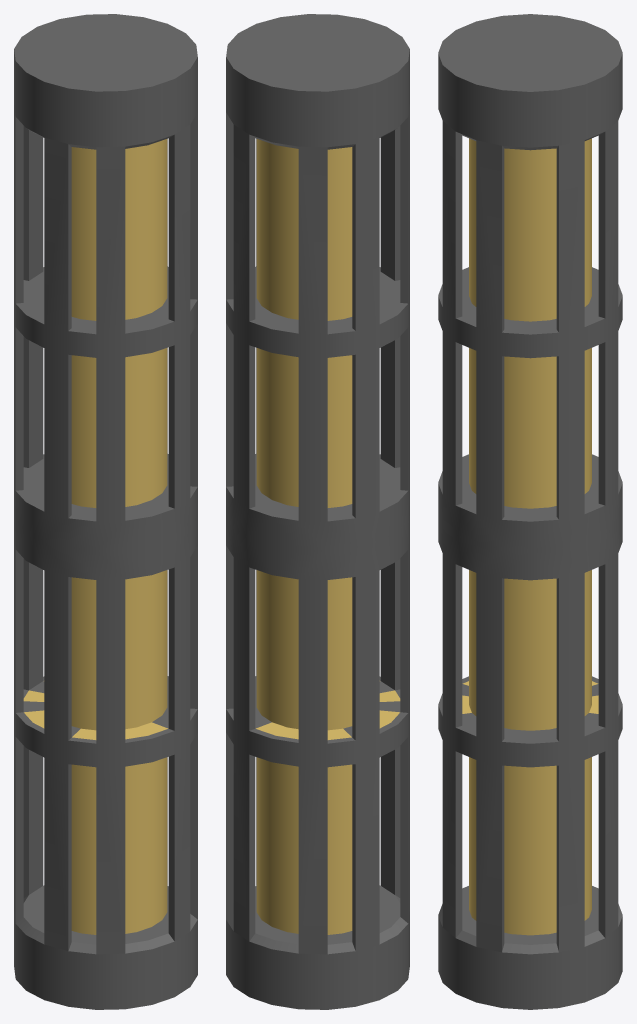
Rendered from basketball peg.fbx.
3 renders of one model, left to right at view 1: azimuth 30°, elevation 25°; view 2: azimuth 150°, elevation 25°; view 3: azimuth 270°, elevation 25°, orthographic.
Visible parts, largest first — view 1: Circle.test.001; view 2: Circle.test.001; view 3: Circle.test.001.
Boxes of the visible parts, x1,y1,x2,y2 form: Circle.test.001: (14, 14, 197, 1009); Circle.test.001: (226, 14, 409, 1009); Circle.test.001: (438, 14, 622, 1009).
Bounding box in the file's own units: 200 × 1097 × 200.
